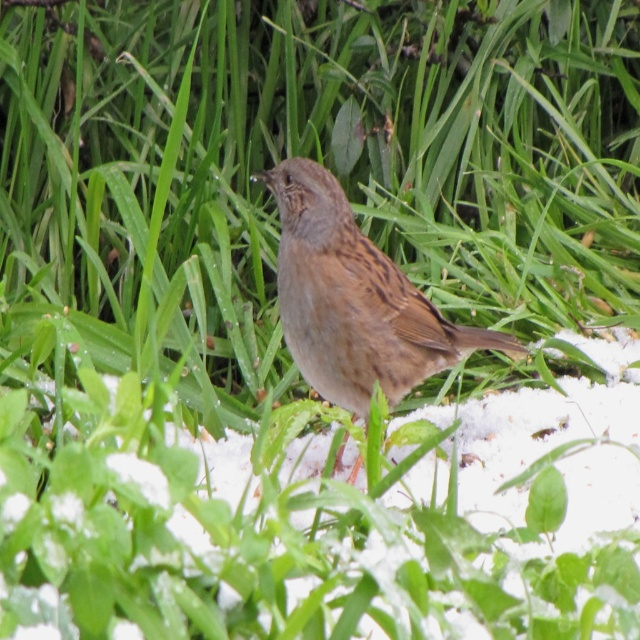Sparrow: (249, 156, 531, 487)
